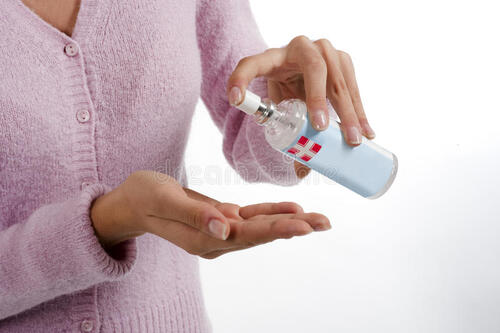sanitizer: (232, 87, 411, 206)
